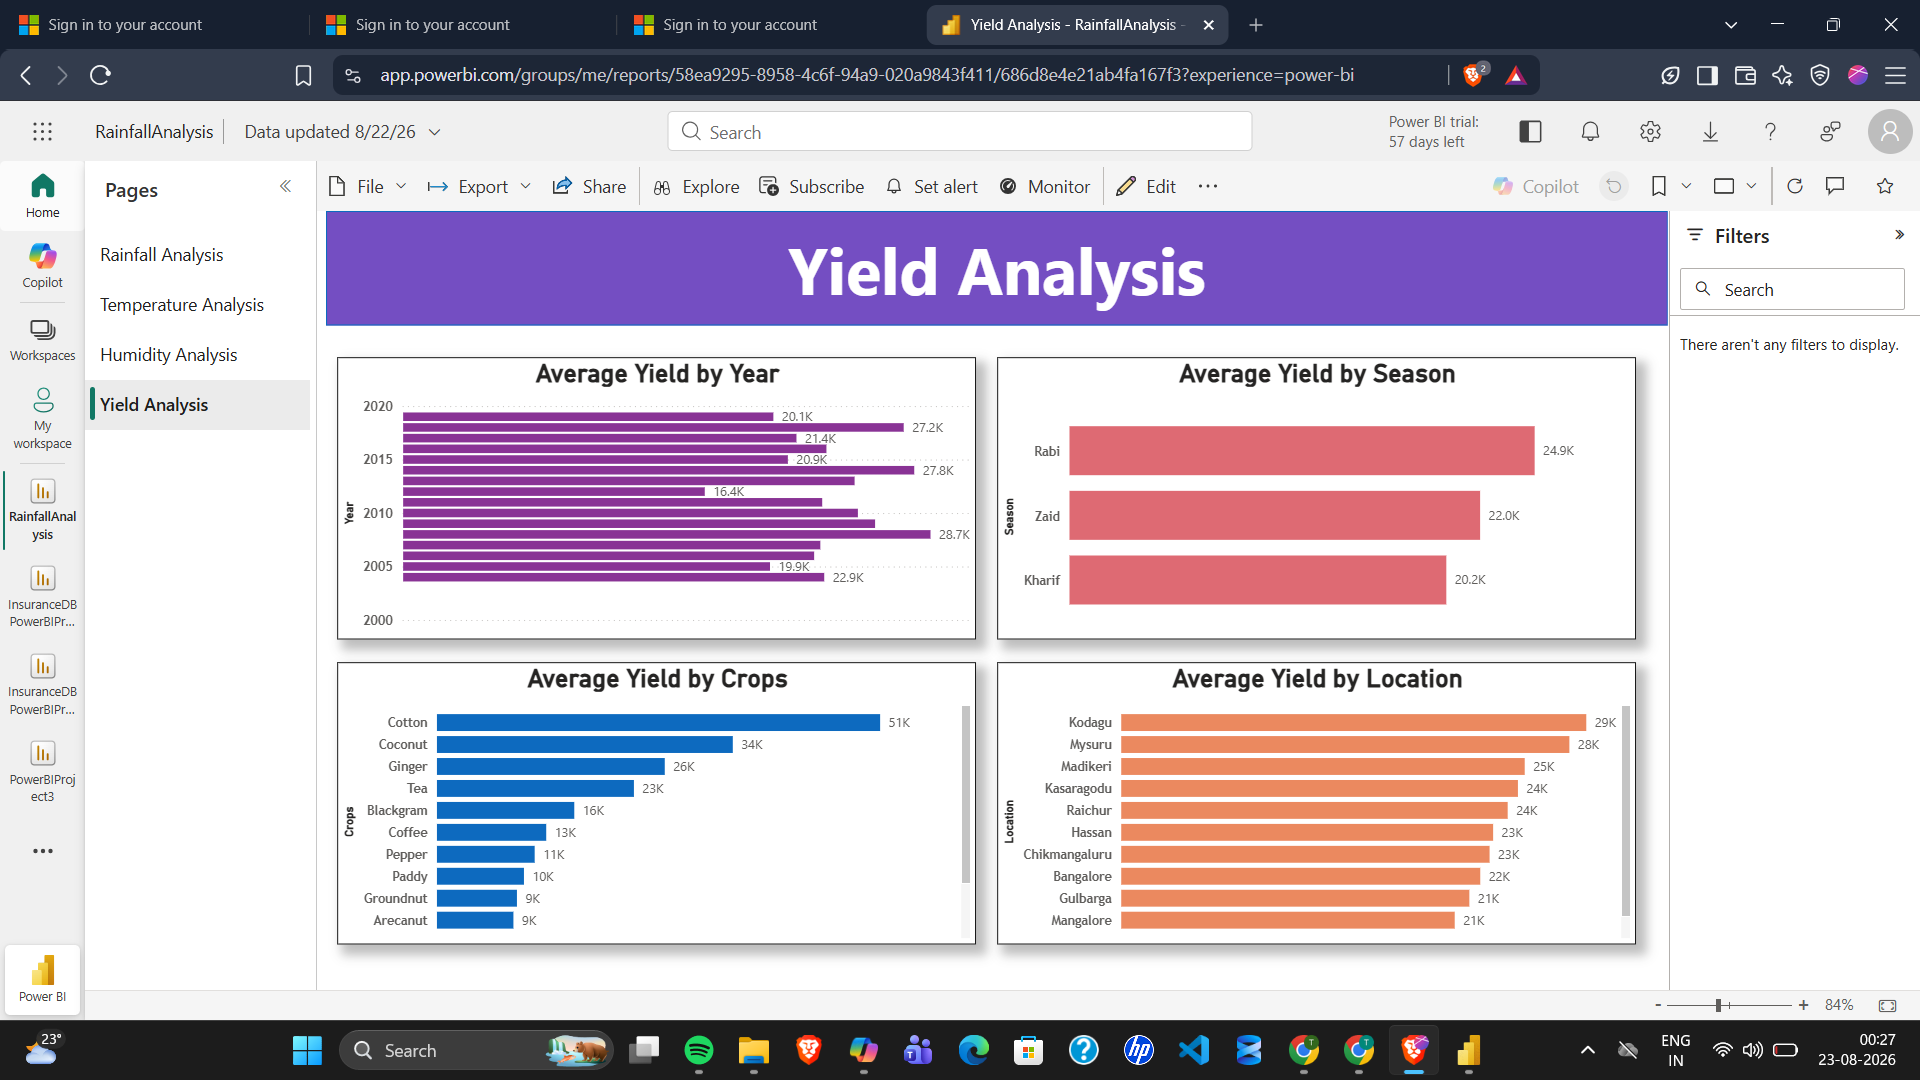

The dashboard page shown, as its layout file describes it:
{"tool":"powerbi","page":{"name":"Yield Analysis","canvas":[1280,720],"ordinal":3},"visuals":[{"type":"shape","box":[9.6,0,1270.7,108.4],"z":0},{"type":"barChart","fields":{"Category":["AGRICULTURE.YEAR"],"Y":["Avg(AGRICULTURE.YEILDS)"]},"box":[20.6,138.6,605.1,267.6],"z":1000},{"type":"barChart","fields":{"Category":["AGRICULTURE.SEASON"],"Y":["Avg(AGRICULTURE.YEILDS)"]},"box":[644.9,138.6,605.1,267.6],"z":2000},{"type":"barChart","fields":{"Category":["AGRICULTURE.CROPS"],"Y":["Avg(AGRICULTURE.YEILDS)"]},"box":[20.6,426.8,605.1,267.6],"z":3000},{"type":"barChart","fields":{"Category":["AGRICULTURE.LOCATION"],"Y":["Avg(AGRICULTURE.YEILDS)"]},"box":[644.9,426.8,605.1,267.6],"z":4000}]}

Visuals, with their boxes on the page's 1280x720 design canvas (x1, y1, x2, y2). These are canvas units, not pixel positions in the 1920x1080 screenshot, which may show the page scaled, cropped or inside an application window:
shape: [10,0,1280,108]
barChart - AGRICULTURE.YEAR x Avg(AGRICULTURE.YEILDS): [21,139,626,406]
barChart - AGRICULTURE.SEASON x Avg(AGRICULTURE.YEILDS): [645,139,1250,406]
barChart - AGRICULTURE.CROPS x Avg(AGRICULTURE.YEILDS): [21,427,626,694]
barChart - AGRICULTURE.LOCATION x Avg(AGRICULTURE.YEILDS): [645,427,1250,694]
